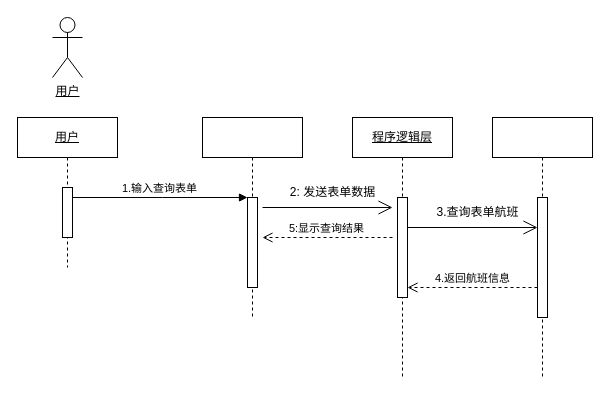
The diagram is 610 pixels wide and 395 high, and some of its shapes have lost their labels. Each missing label, with the box of its shape:
用户界面: (202, 116, 302, 318)
程序数据库: (492, 116, 592, 378)
